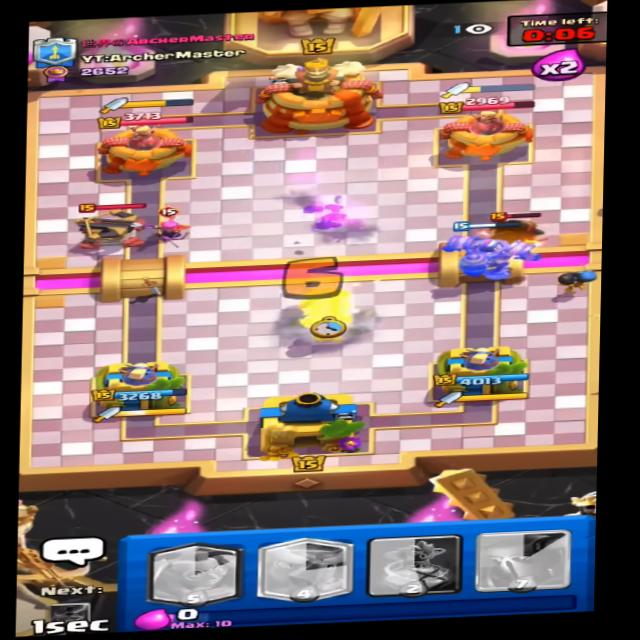evo-archers: (150, 206, 200, 244)
knight: (486, 209, 552, 247)
x-bow: (66, 196, 161, 256)
